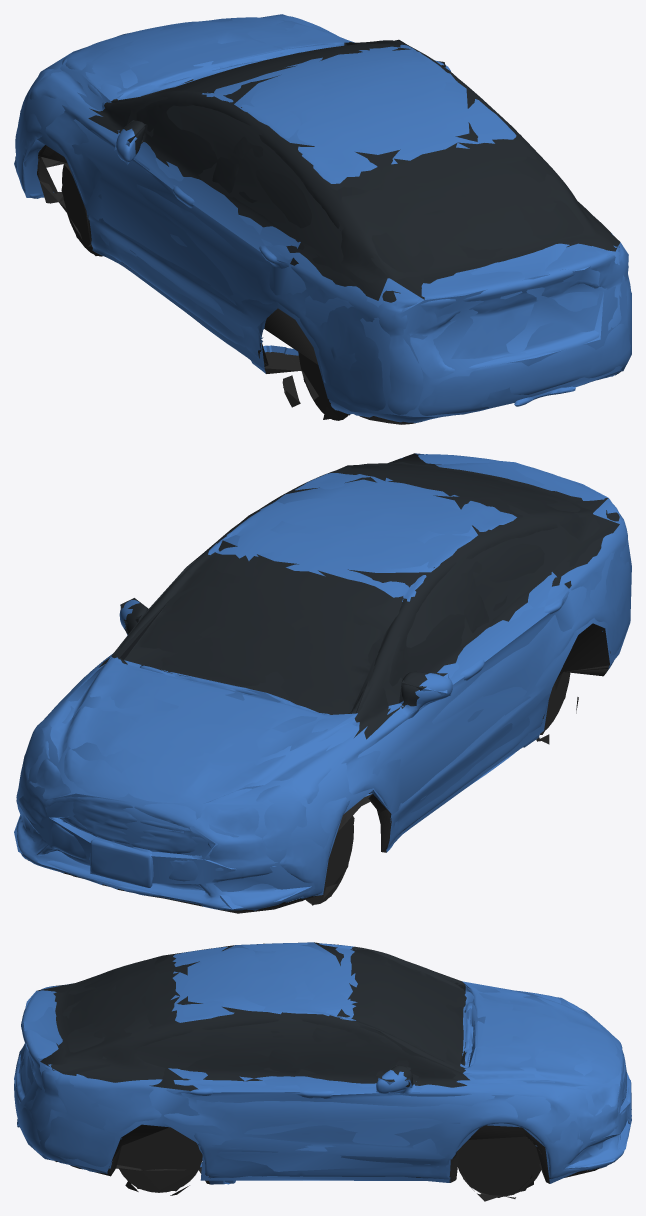
File: ford-fusion.glb
The picture shows the model from 3 angles, top to bottom: view 1: azimuth 30°, elevation 25°; view 2: azimuth 150°, elevation 25°; view 3: azimuth 270°, elevation 25°; orthographic projection. The views are drawn at different scales.
Parts seen in each view (by area): view 1: body, far; view 2: body, far; view 3: body, far.
Boxes of the visible parts, bbox=[...] form: body: bbox=[15, 16, 631, 424]; far: bbox=[14, 14, 631, 419]; body: bbox=[16, 454, 630, 913]; far: bbox=[14, 453, 631, 909]; body: bbox=[14, 943, 631, 1201]; far: bbox=[14, 942, 631, 1191].
Bounding box in the file's own units: 2.28 × 1.6 × 4.93.
